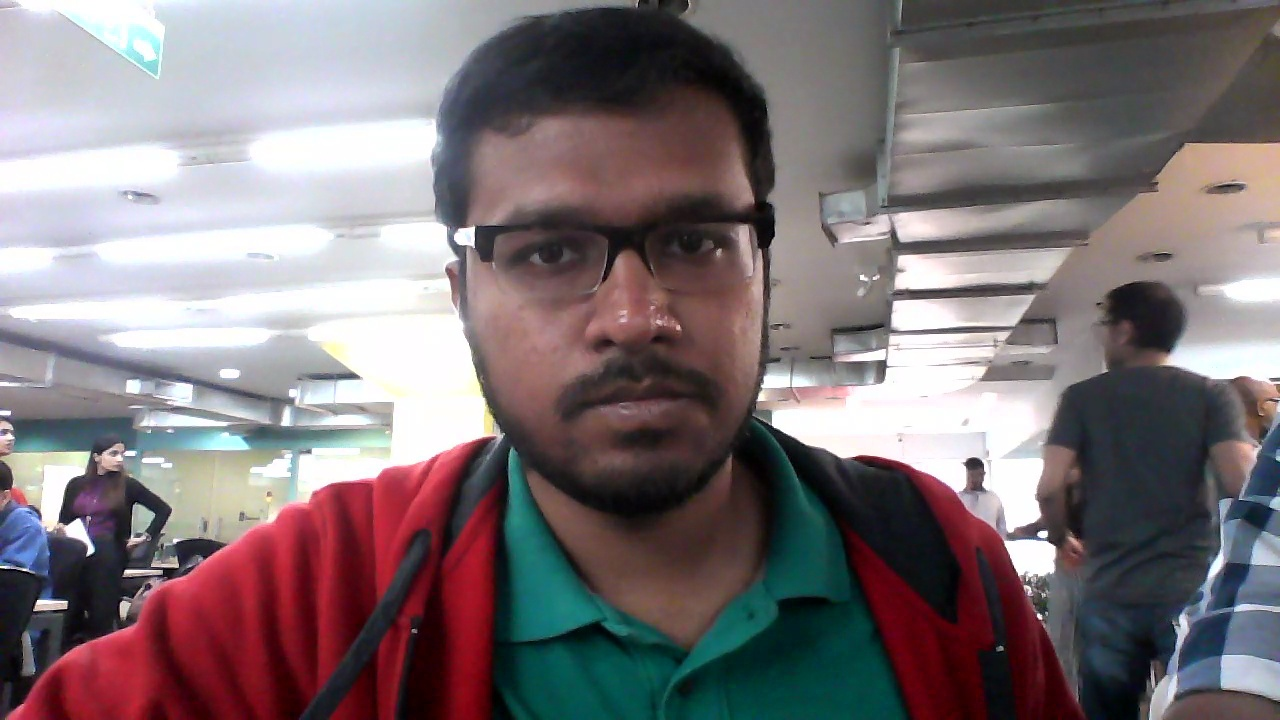open: (421, 12, 819, 521)
